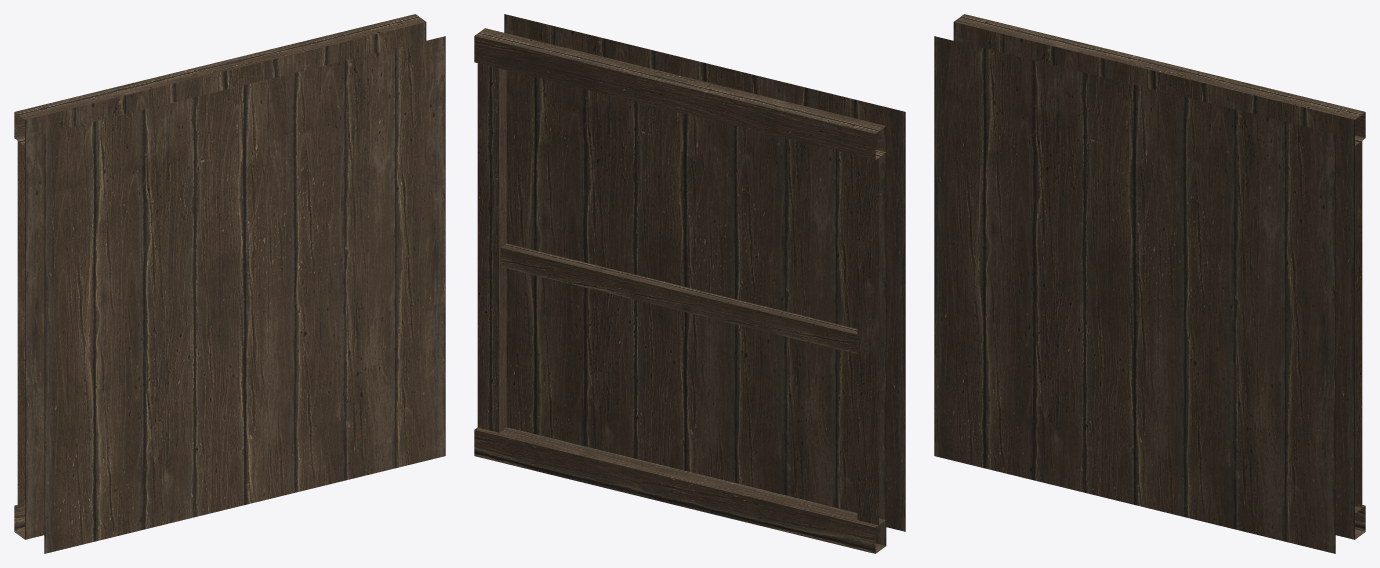
Rendered from ARC1010325.fbx.
The picture shows the model from 3 angles, left to right: view 1: azimuth 30°, elevation 25°; view 2: azimuth 150°, elevation 25°; view 3: azimuth 330°, elevation 25°; orthographic projection.
Visible parts, largest first — view 1: smARC1010325; view 2: smARC1010325; view 3: smARC1010325.
Boxes of the visible parts, x1=… form: smARC1010325: x1=14, y1=14, x2=445, y2=553; smARC1010325: x1=474, y1=14, x2=905, y2=553; smARC1010325: x1=934, y1=14, x2=1365, y2=553.
Bounding box in the file's own units: 268 × 268 × 34.9.
1 material, 1 textured.
